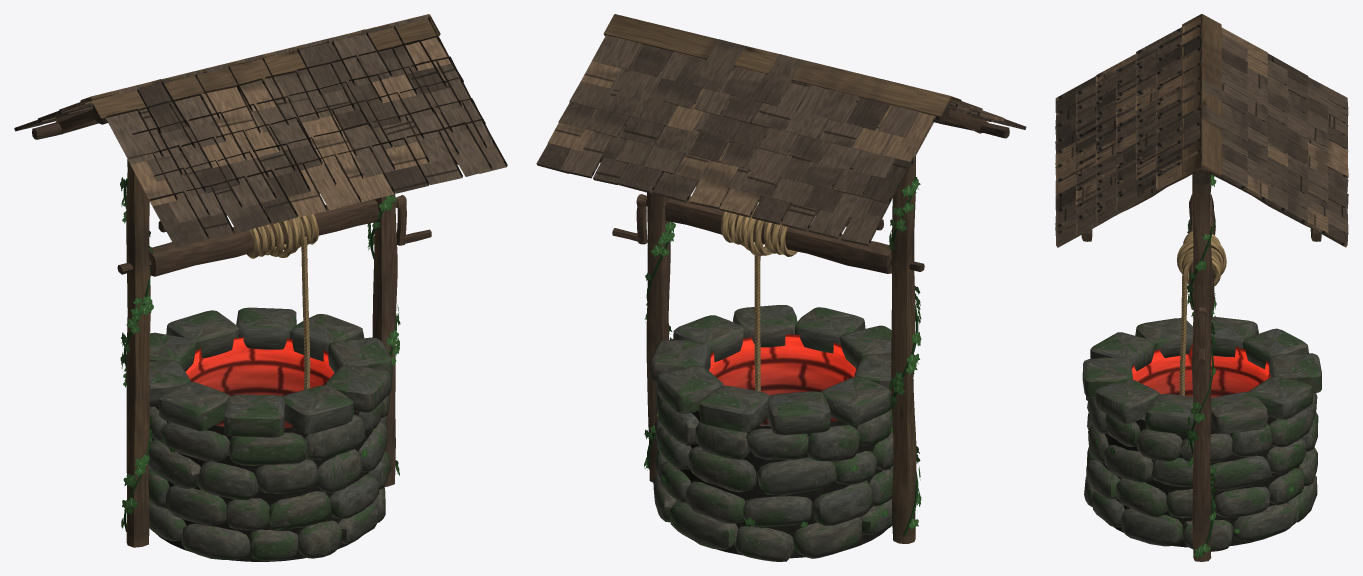
Rendered from magic-well.glb.
3 renders of one model, left to right at view 1: azimuth 30°, elevation 25°; view 2: azimuth 150°, elevation 25°; view 3: azimuth 270°, elevation 25°, orthographic. The views are drawn at different scales.
Visible parts, largest first — view 1: magic_well, windlass, crank; view 2: magic_well, windlass, crank; view 3: magic_well, windlass, crank.
Boxes of the visible parts, box(x1,y1,x2,y2) form: magic_well: box(14, 14, 507, 561); windlass: box(117, 199, 399, 276); crank: box(396, 195, 431, 245); magic_well: box(536, 14, 1026, 561); windlass: box(644, 196, 924, 273); crank: box(612, 194, 647, 244); magic_well: box(1055, 14, 1348, 561); windlass: box(1177, 194, 1226, 309); crank: box(1196, 307, 1207, 365).
Bounding box in the file's own units: 1.98 × 2.58 × 1.64.
6 materials, 6 textured.
